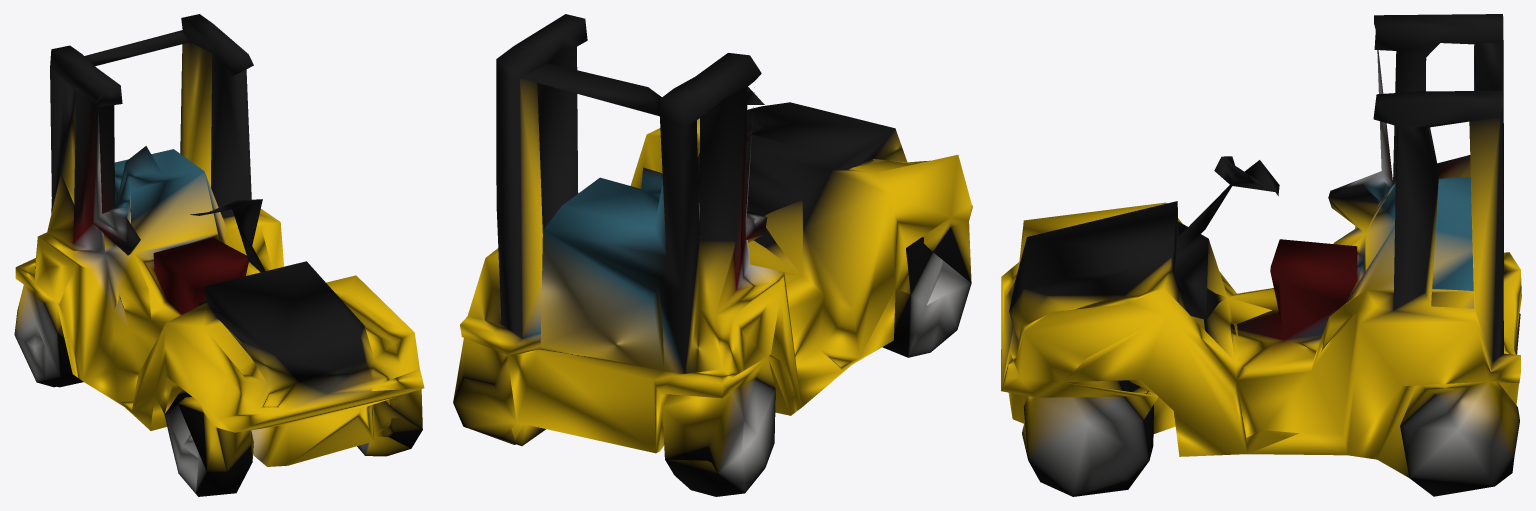
Rendered from gen3d-forklift-lod1.glb.
The picture shows the model from 3 angles, left to right: view 1: azimuth 30°, elevation 25°; view 2: azimuth 150°, elevation 25°; view 3: azimuth 270°, elevation 25°; orthographic projection. The views are drawn at different scales.
Parts seen in each view (by area): view 1: part_0; view 2: part_0; view 3: part_0.
Boxes of the visible parts, x1,y1,x2,y2 form: part_0: (14,14,424,496); part_0: (453,14,972,496); part_0: (1001,14,1521,496).
Bounding box in the file's own units: 0.7136 × 0.9972 × 1.22.
